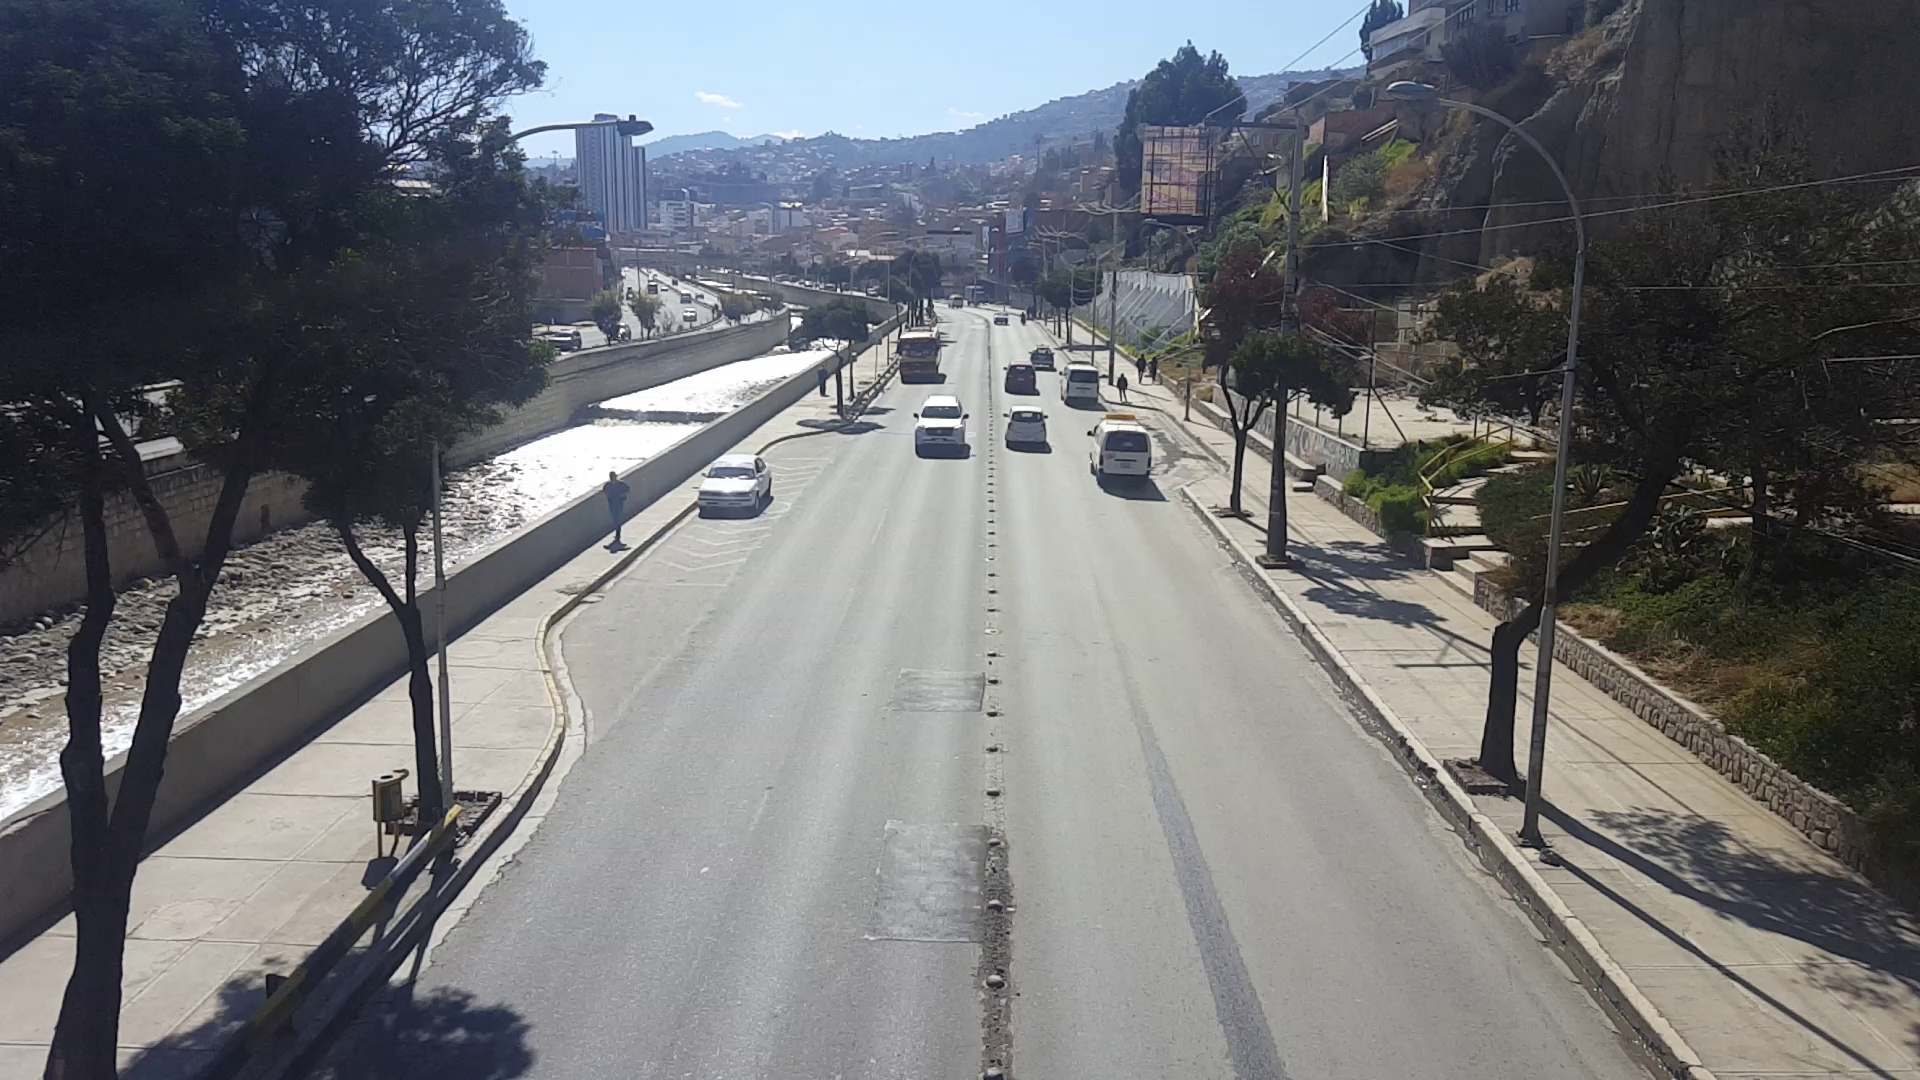automovil: (1002, 404, 1052, 447)
minibus: (1083, 413, 1159, 487)
vagoneta: (910, 392, 973, 448)
